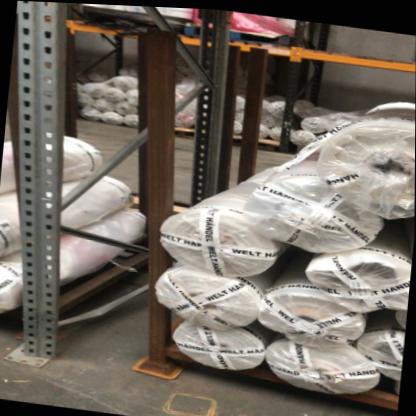vertical_damage: (1, 267, 75, 375)
